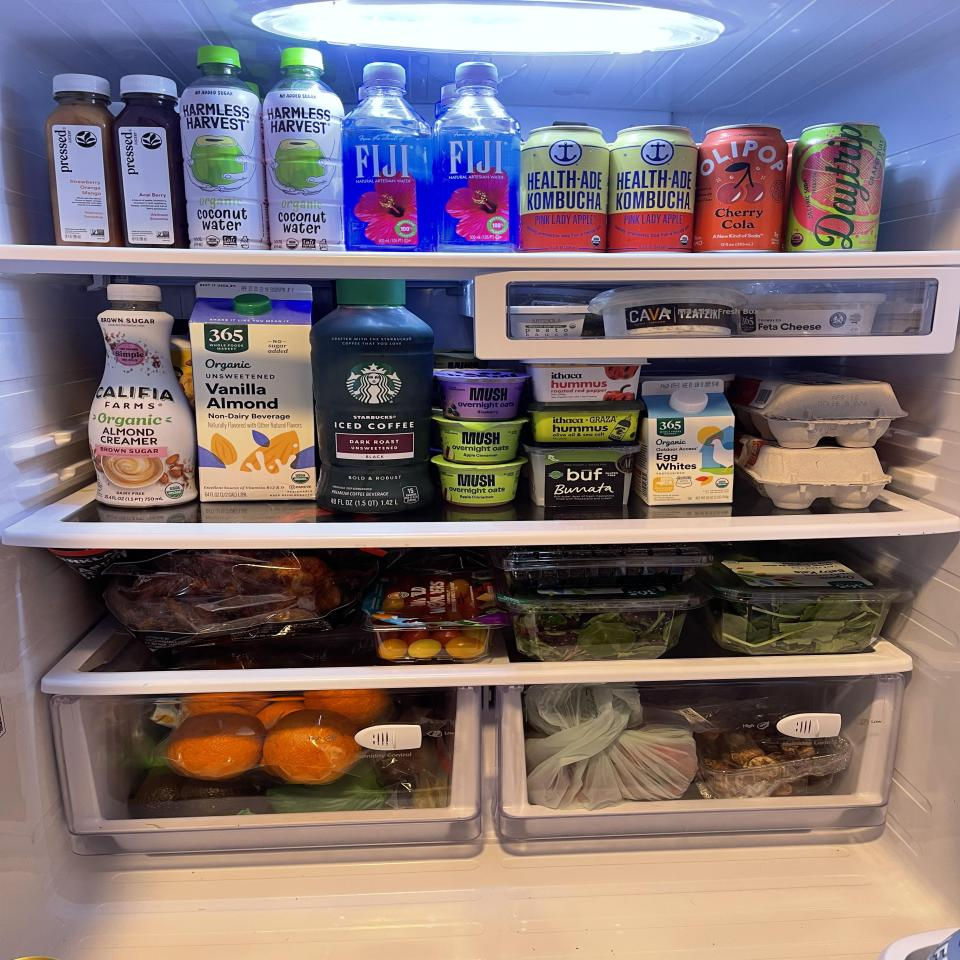Huevos: (727, 370, 908, 448), (737, 437, 893, 511)
Tomate: (361, 547, 507, 662)
